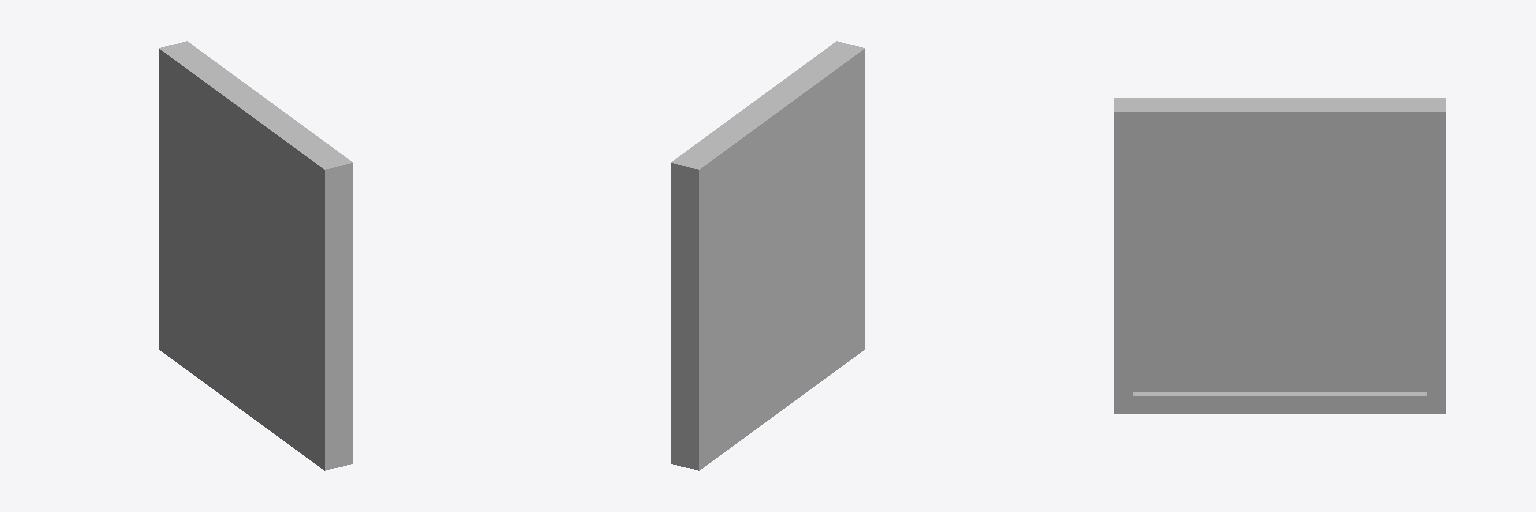
File: frameNew 1.obj
3 views of the same model, side by side, from view 1: azimuth 30°, elevation 25°; view 2: azimuth 150°, elevation 25°; view 3: azimuth 270°, elevation 25° (orthographic).
Visible parts, largest first — view 1: Cube_Cube.001; view 2: Cube_Cube.001; view 3: Cube_Cube.001.
Boxes of the visible parts, x1,y1,x2,y2 form: Cube_Cube.001: [159, 41, 352, 470]; Cube_Cube.001: [671, 41, 864, 470]; Cube_Cube.001: [1114, 98, 1445, 413].
Size of the model in its own units: 0.1 by 1 by 1.